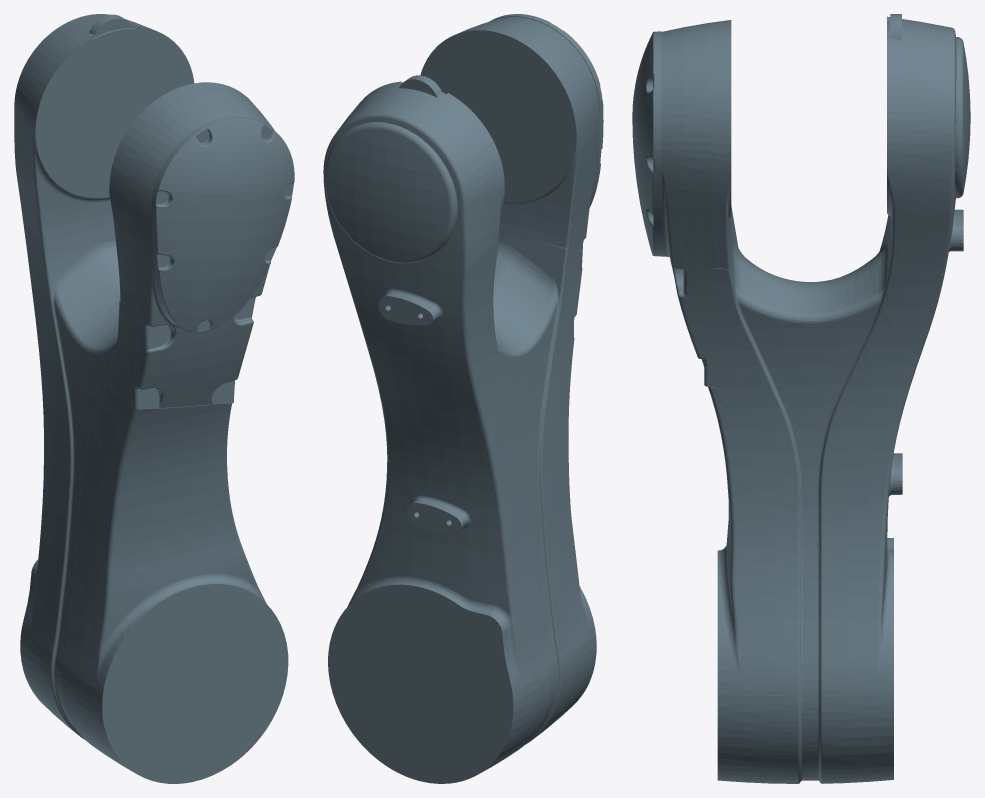
The picture shows the model from 3 angles, left to right: view 1: azimuth 30°, elevation 25°; view 2: azimuth 150°, elevation 25°; view 3: azimuth 270°, elevation 25°; orthographic projection. The views are drawn at different scales.
Visible parts, largest first — view 1: link_2; view 2: link_2; view 3: link_2.
Boxes of the visible parts, x1=… form: link_2: x1=14, y1=14, x2=294, y2=783; link_2: x1=323, y1=14, x2=603, y2=783; link_2: x1=632, y1=14, x2=970, y2=783.
Size of the model in its own units: 0.1779 by 0.2541 by 0.6263.
